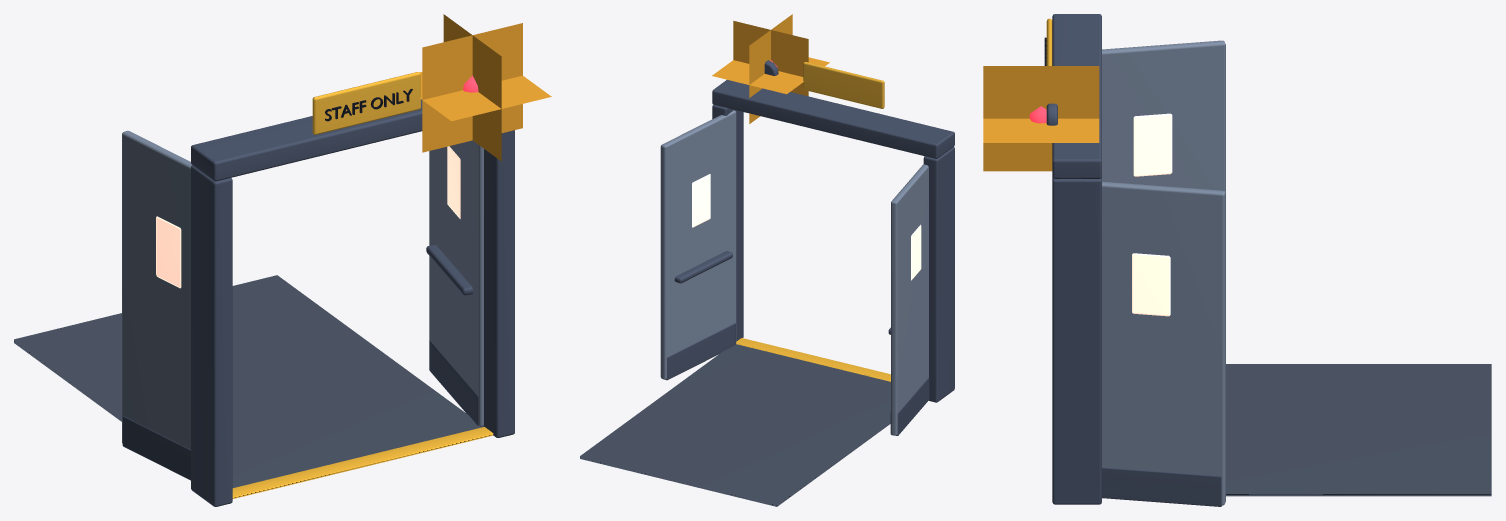
Rendered from aqua_staff_door.glb.
3 renders of one model, left to right at view 1: azimuth 30°, elevation 25°; view 2: azimuth 150°, elevation 25°; view 3: azimuth 270°, elevation 25°, orthographic. The views are drawn at different scales.
Visible parts, largest first — view 1: StaffDoor; view 2: StaffDoor; view 3: StaffDoor.
Boxes of the visible parts, <box> form: StaffDoor: <box>14,14,551,506</box>; StaffDoor: <box>580,14,954,506</box>; StaffDoor: <box>983,14,1491,506</box>.
Size of the model in its own units: 2.65 by 3.32 by 3.68.
